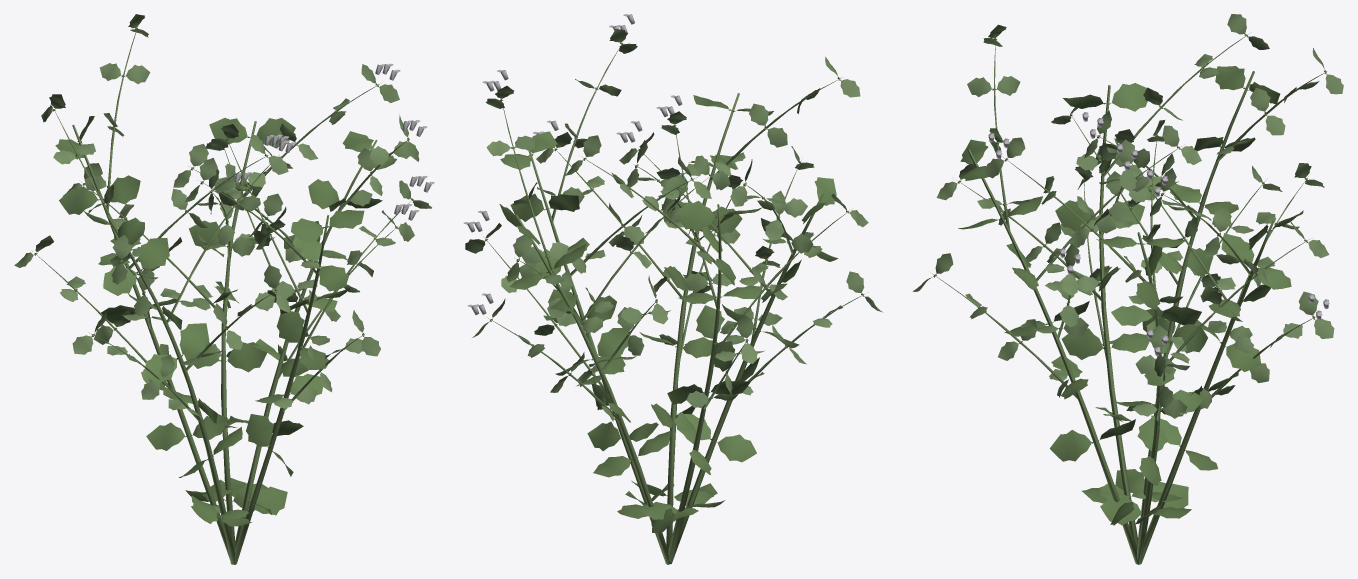
The model's file is Nepita_0_Niveau0.fbx.
3 renders of one model, left to right at view 1: azimuth 30°, elevation 25°; view 2: azimuth 150°, elevation 25°; view 3: azimuth 270°, elevation 25°, orthographic. The views are drawn at different scales.
Parts seen in each view (by area): view 1: Nepita_0_Niveau0; view 2: Nepita_0_Niveau0; view 3: Nepita_0_Niveau0.
Part boxes in pixels (<box>): Nepita_0_Niveau0: <box>14,14,434,564</box>; Nepita_0_Niveau0: <box>463,14,882,564</box>; Nepita_0_Niveau0: <box>912,14,1343,564</box>.
Size of the model in its own units: 21.39 by 26.35 by 20.24.
